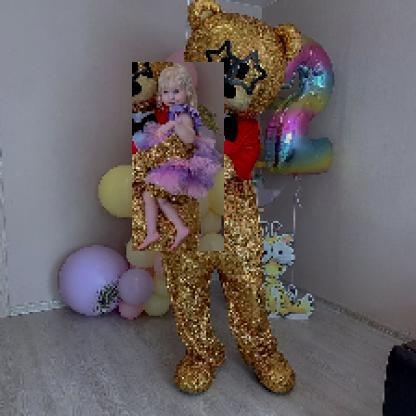child: (133, 63, 226, 253)
